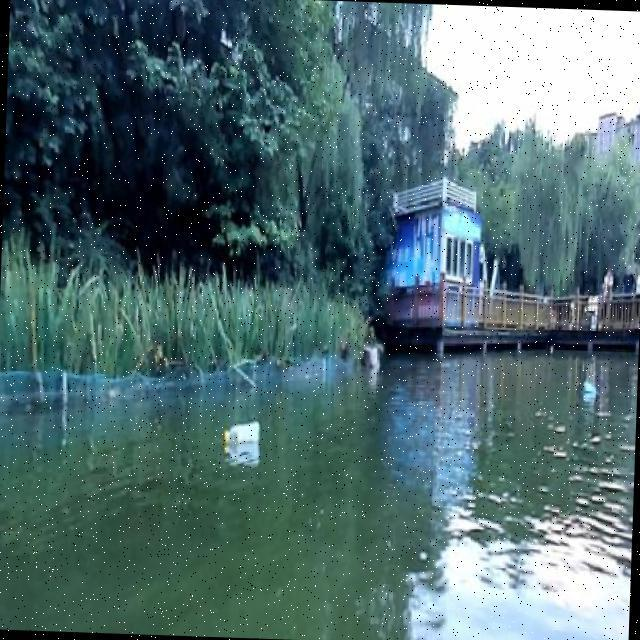Bottle: (218, 412, 266, 452)
